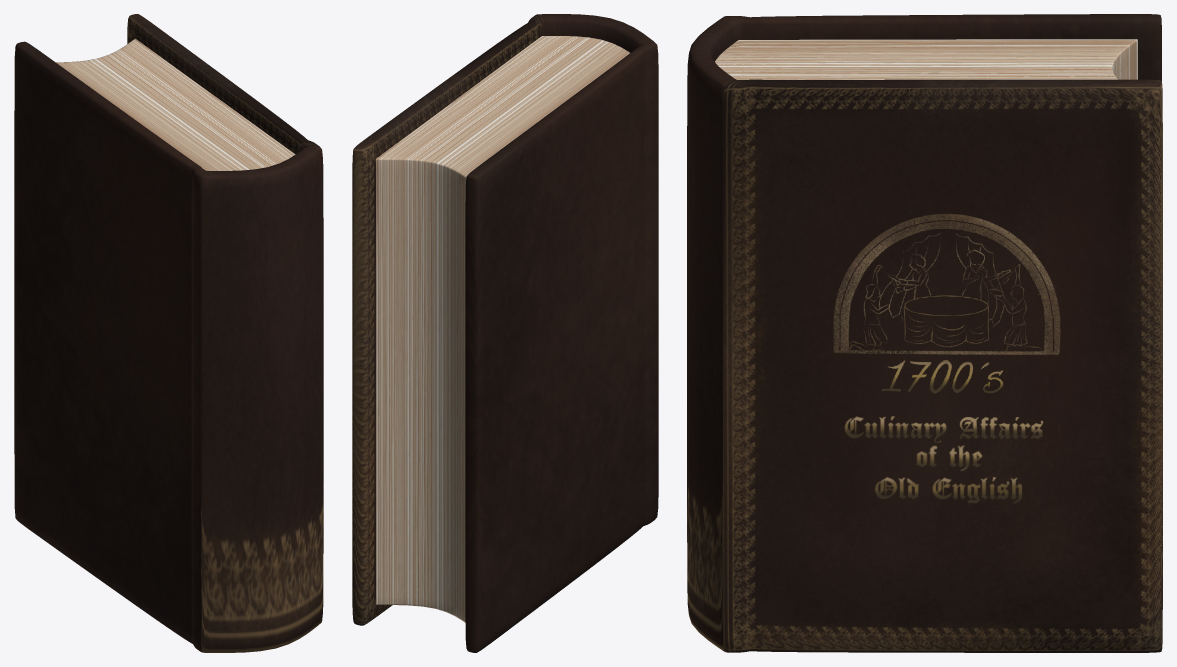
Rendered from book-9.glb.
3 views of the same model, side by side, from view 1: azimuth 30°, elevation 25°; view 2: azimuth 150°, elevation 25°; view 3: azimuth 270°, elevation 25° (orthographic). The views are drawn at different scales.
Parts seen in each view (by area): view 1: Culinary affairs of the old english, Book Pages; view 2: Culinary affairs of the old english, Book Pages; view 3: Culinary affairs of the old english, Book Pages.
Boxes of the visible parts, x1,y1,x2,y2 form: Culinary affairs of the old english: (14, 14, 323, 652); Book Pages: (56, 38, 295, 170); Culinary affairs of the old english: (352, 14, 658, 652); Book Pages: (376, 36, 629, 622); Culinary affairs of the old english: (687, 14, 1162, 652); Book Pages: (715, 39, 1137, 79).
Size of the model in its own units: 0.2944 by 1.05 by 0.793.
Materials: 2 (2 with a texture image).
